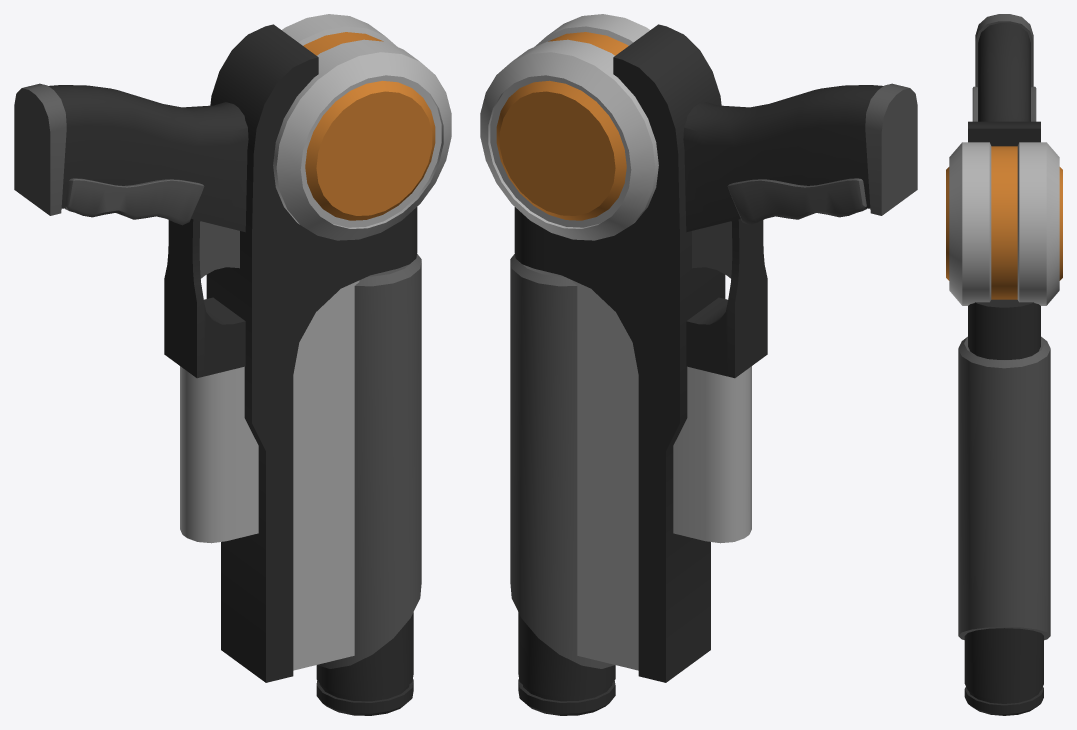
File: qg-pistol-1-lod0.glb
3 renders of one model, left to right at view 1: azimuth 30°, elevation 25°; view 2: azimuth 150°, elevation 25°; view 3: azimuth 270°, elevation 25°, orthographic. The views are drawn at different scales.
Parts seen in each view (by area): view 1: WeaponMesh_qg-pistol-1_Pistol_1; view 2: WeaponMesh_qg-pistol-1_Pistol_1; view 3: WeaponMesh_qg-pistol-1_Pistol_1.
Part boxes in pixels (<box>): WeaponMesh_qg-pistol-1_Pistol_1: <box>14,14,451,715</box>; WeaponMesh_qg-pistol-1_Pistol_1: <box>480,14,917,715</box>; WeaponMesh_qg-pistol-1_Pistol_1: <box>946,14,1062,715</box>.
Size of the model in its own units: 0.3719 by 0.62 by 0.1182.
